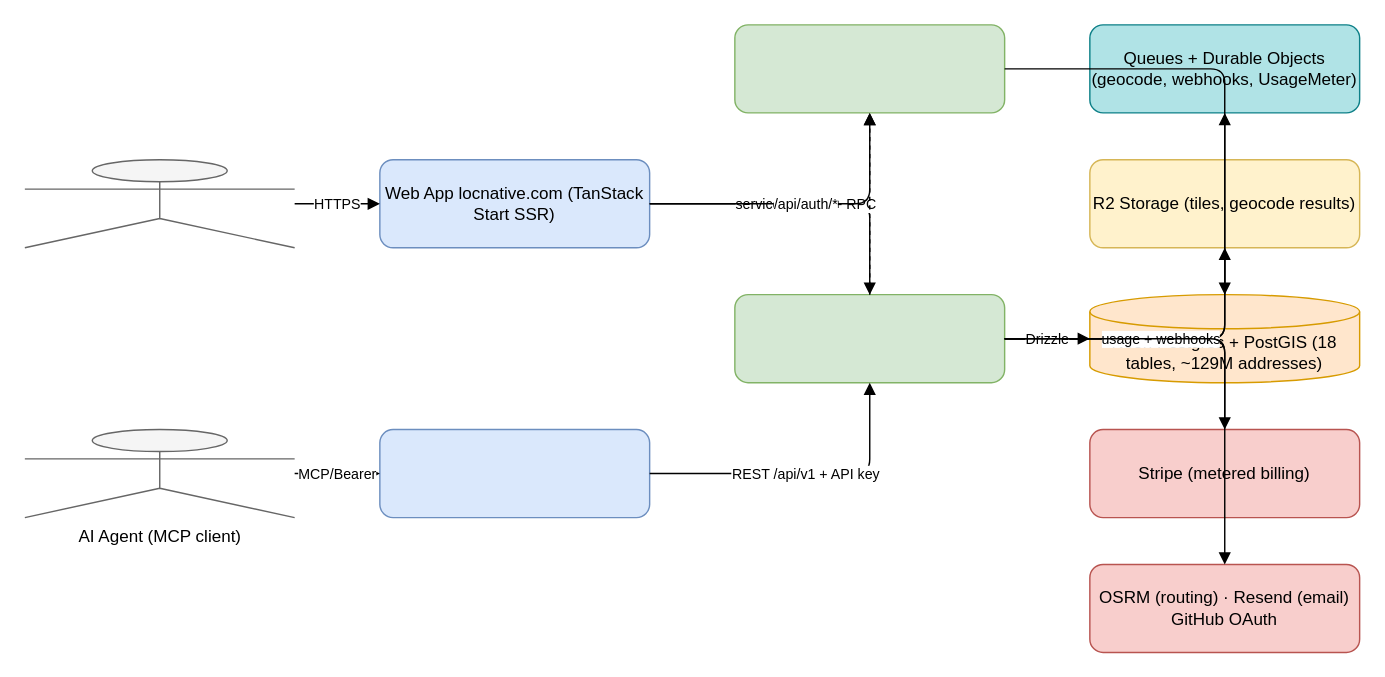
Image size: 1385x677. Some labels were removed from this diagram. Each missing label, with the centre of its shape:
"API api.locnative.com (Hono + oRPC on Workers)" belongs at (x=869, y=338).
"BetterAuth (self-hosted)" belongs at (x=869, y=68).
"End User / Developer" belongs at (x=159, y=203).
"MCP Server mcp.locnative.com" belongs at (x=514, y=473).
